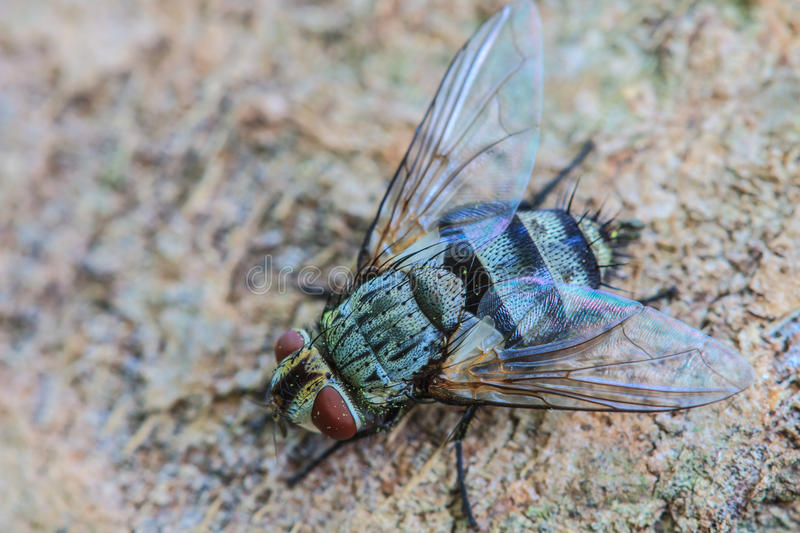green bottles fly: (179, 3, 770, 494)
